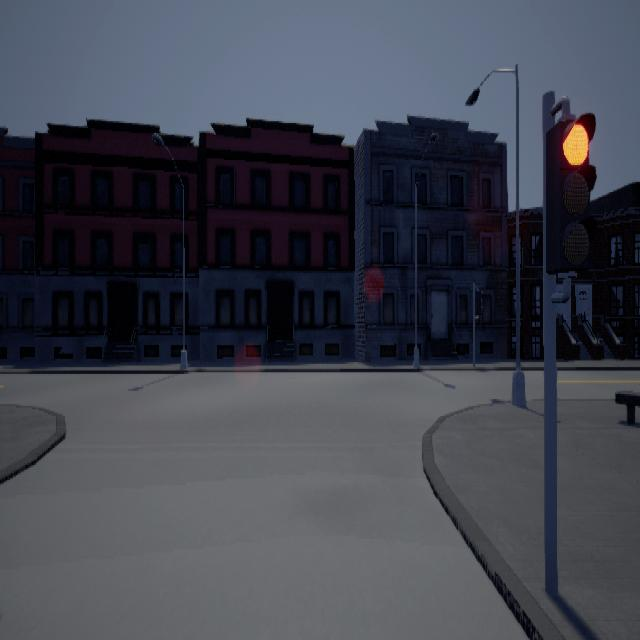red_light: (545, 95, 596, 302)
